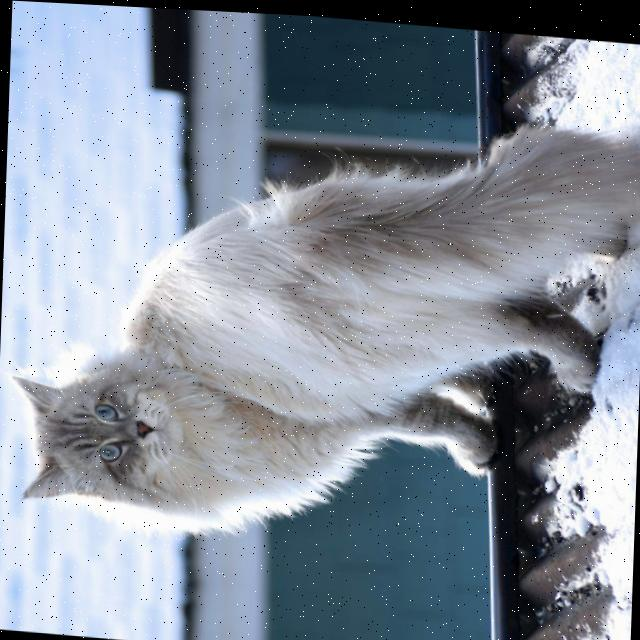Neva Masquerade: (0, 76, 640, 571)
